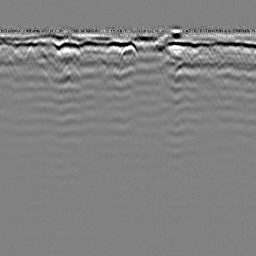cavity: (119, 43, 139, 62)
